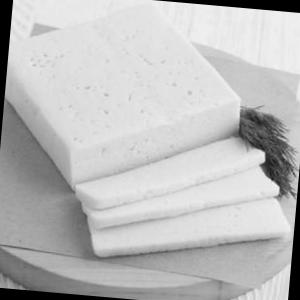cheese: (0, 13, 300, 276)
